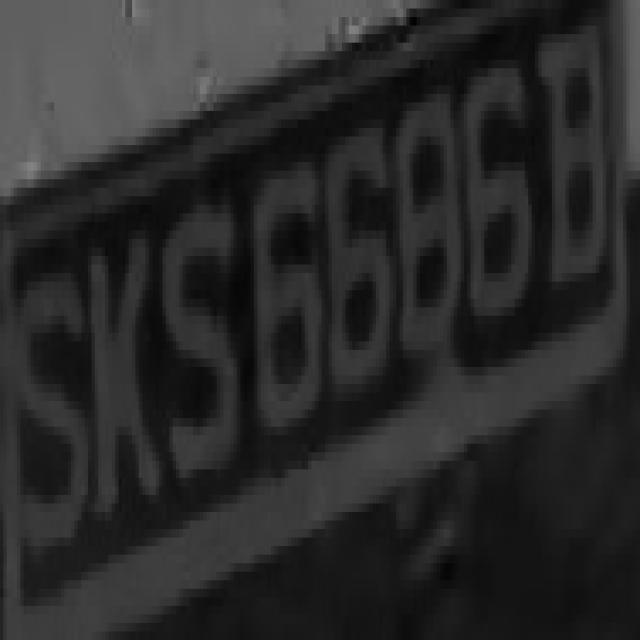6: (315, 111, 393, 418), (454, 51, 535, 333), (244, 154, 315, 460)
8: (393, 77, 467, 384)
B: (535, 17, 606, 341)
K: (78, 196, 162, 589)
S: (156, 119, 250, 512), (7, 230, 91, 598)
